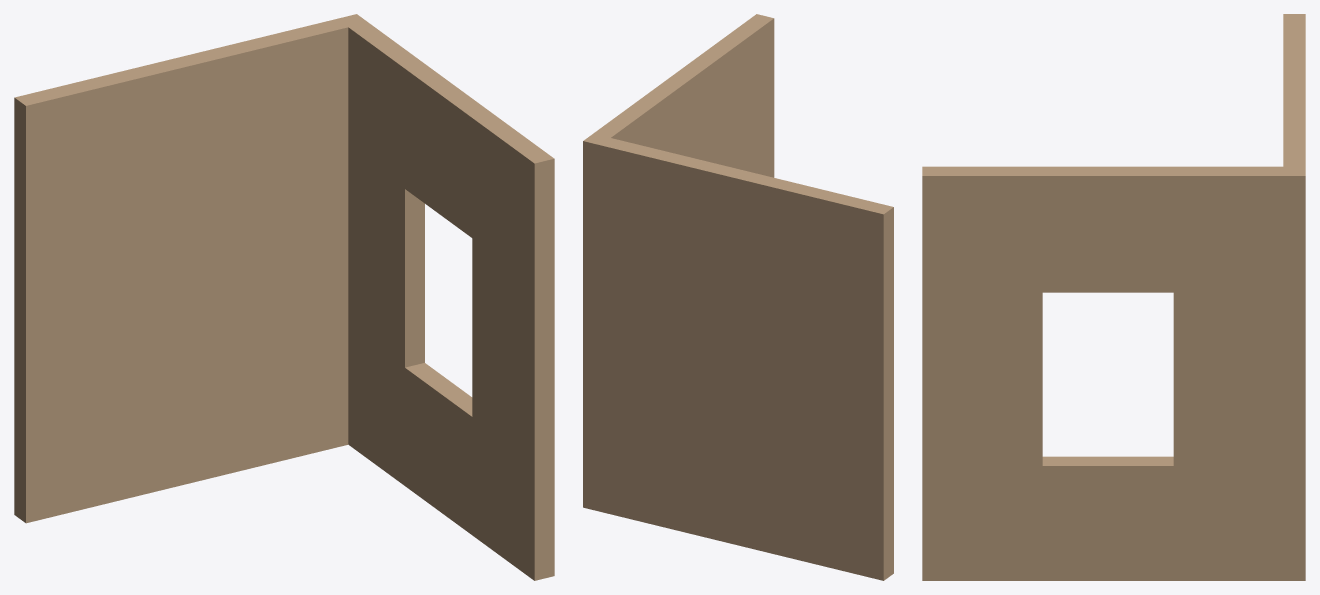
File: Wall2_C1_08.fbx
The picture shows the model from 3 angles, left to right: view 1: azimuth 30°, elevation 25°; view 2: azimuth 150°, elevation 25°; view 3: azimuth 270°, elevation 25°; orthographic projection. The views are drawn at different scales.
Parts seen in each view (by area): view 1: Wall2_C1_08; view 2: Wall2_C1_08; view 3: Wall2_C1_08.
Part boxes in pixels (x1,y1,x2,y2): Wall2_C1_08: (14, 14, 554, 580); Wall2_C1_08: (583, 14, 893, 580); Wall2_C1_08: (922, 14, 1305, 580).
Size of the model in its own units: 258 by 300 by 258.
